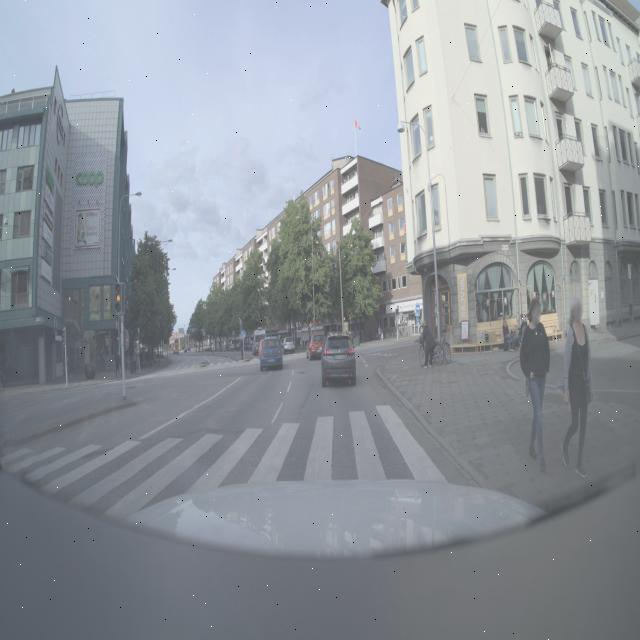yellow_light: (100, 274, 142, 328)
